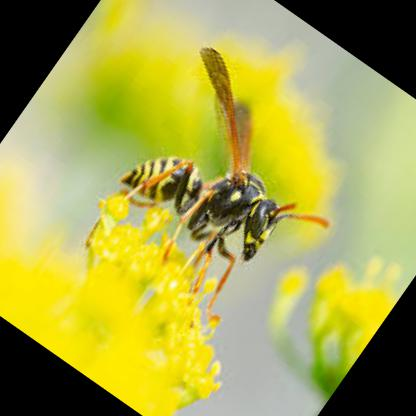other: (67, 32, 378, 352)
